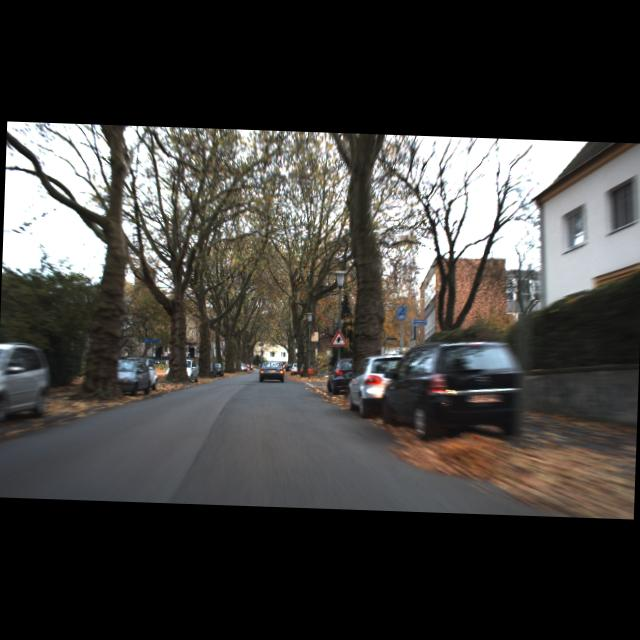danger: (329, 328, 348, 346)
